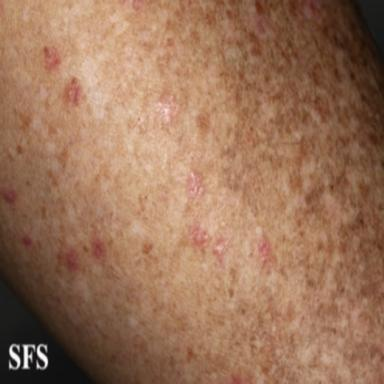Porokeratosis: (187, 169, 205, 197), (64, 78, 81, 106), (43, 46, 61, 70), (257, 235, 272, 263), (190, 225, 209, 245), (214, 235, 227, 259), (92, 236, 105, 259), (66, 249, 79, 270), (3, 188, 17, 204), (22, 235, 32, 245)
